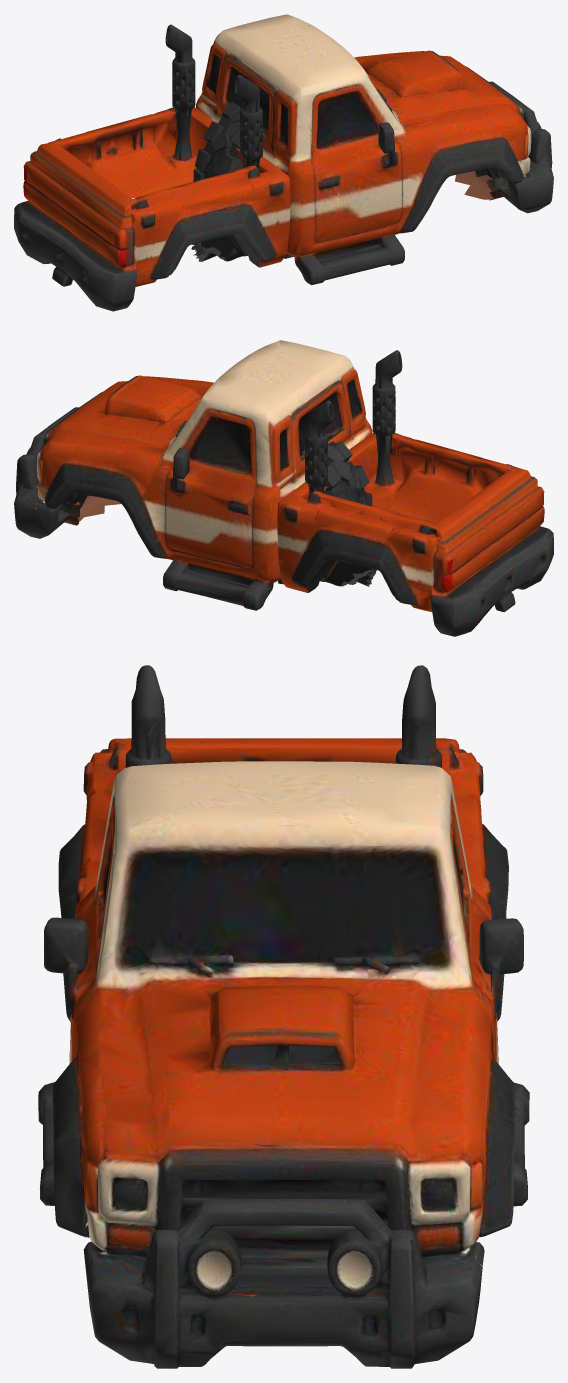
The model's file is brasa-7y5j7euP.glb.
3 views of the same model, one above another, from view 1: azimuth 30°, elevation 25°; view 2: azimuth 150°, elevation 25°; view 3: azimuth 270°, elevation 25° (orthographic). The views are drawn at different scales.
Parts seen in each view (by area): view 1: carroceria, roda; view 2: carroceria, roda; view 3: carroceria.
Part boxes in pixels (x1,y1,x2,y2): carroceria: (14,14,553,311); roda: (193,102,292,258); carroceria: (14,340,553,636); roda: (278,433,372,584); carroceria: (38,665,529,1368).
Bounding box in the file's own units: 4.1 × 1.81 × 1.87.
2 materials, 2 textured.
